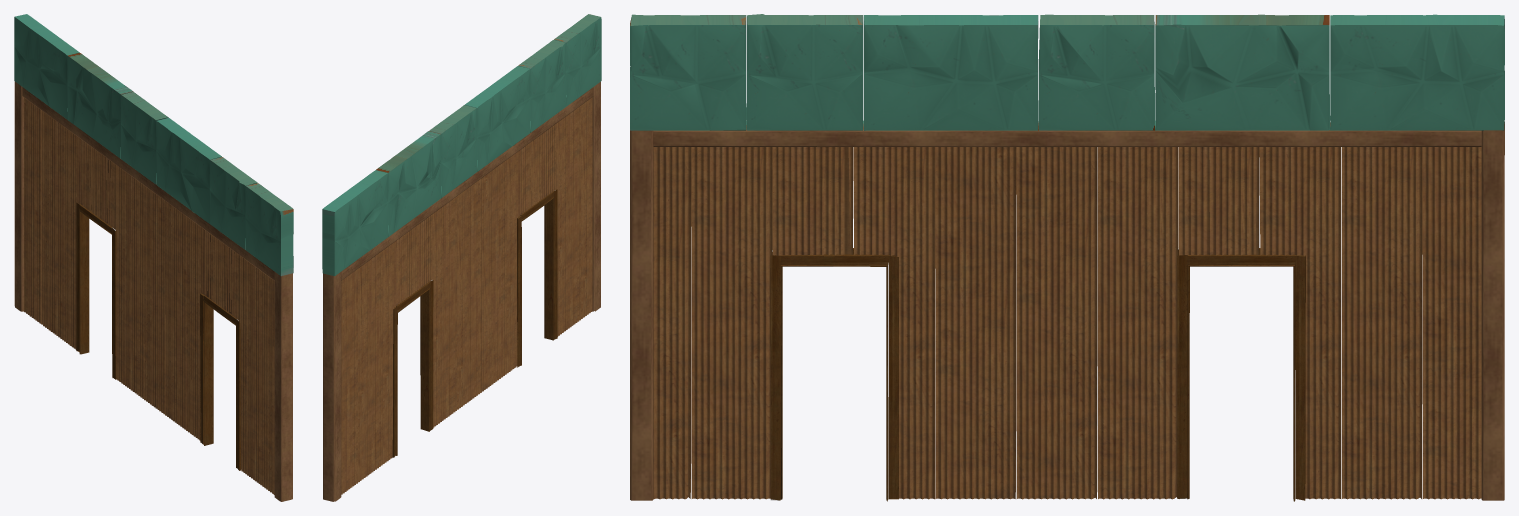
The model's file is SM_Office_wall01f.fbx.
The picture shows the model from 3 angles, left to right: view 1: azimuth 30°, elevation 25°; view 2: azimuth 150°, elevation 25°; view 3: azimuth 270°, elevation 25°; orthographic projection. The views are drawn at different scales.
Parts seen in each view (by area): view 1: SM_Office_wall01f_LOD0; view 2: SM_Office_wall01f_LOD0; view 3: SM_Office_wall01f_LOD0.
Boxes of the visible parts, bbox=[...] form: SM_Office_wall01f_LOD0: bbox=[14, 14, 293, 501]; SM_Office_wall01f_LOD0: bbox=[322, 14, 601, 501]; SM_Office_wall01f_LOD0: bbox=[630, 14, 1504, 501].
Size of the model in its own units: 25.82 by 750 by 453.
